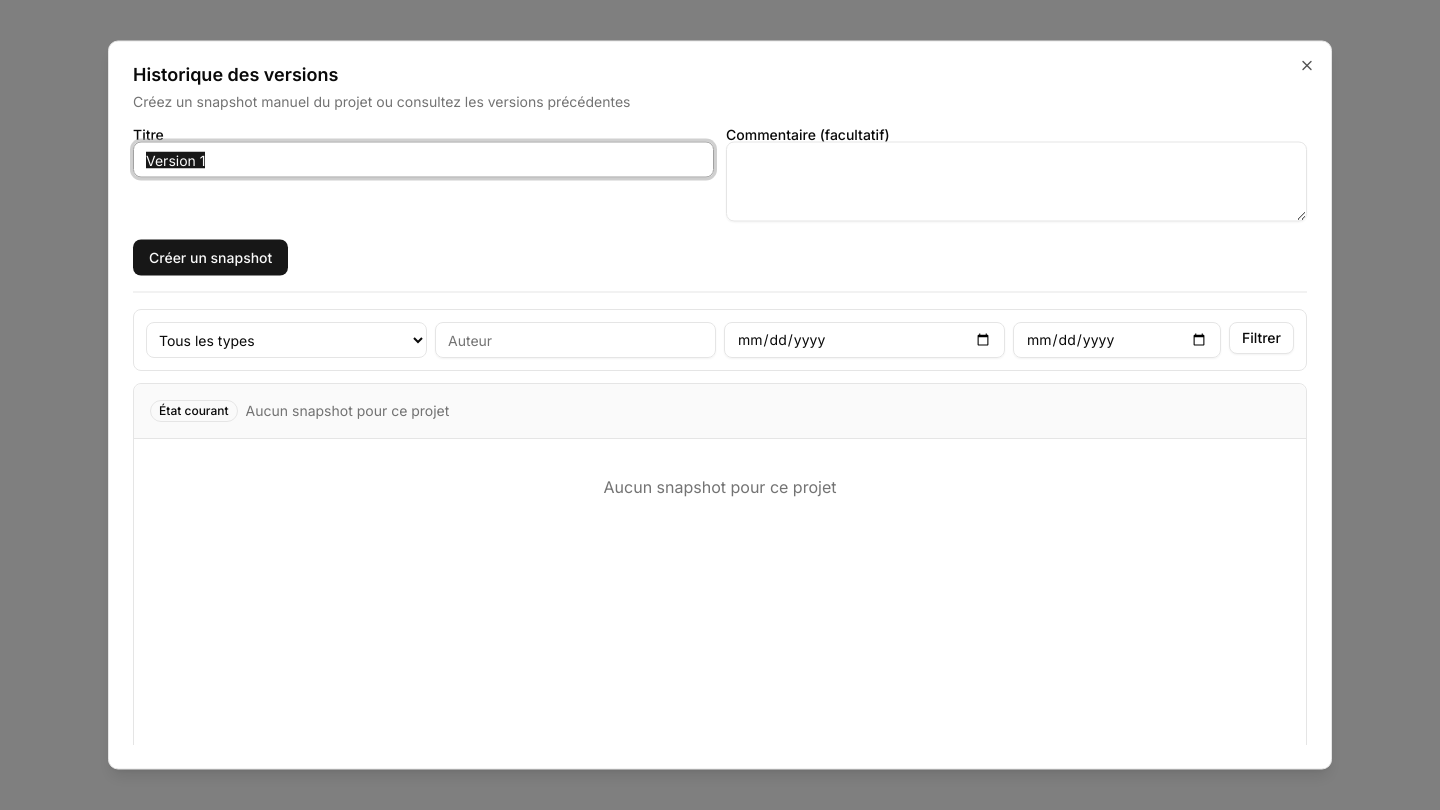
SnapshotHistoryDialog › creates a snapshot with the entered title and comment via the store
Replace the text in the field labelled "Titre" with "Ma version": (424, 160) [133,142,714,178]
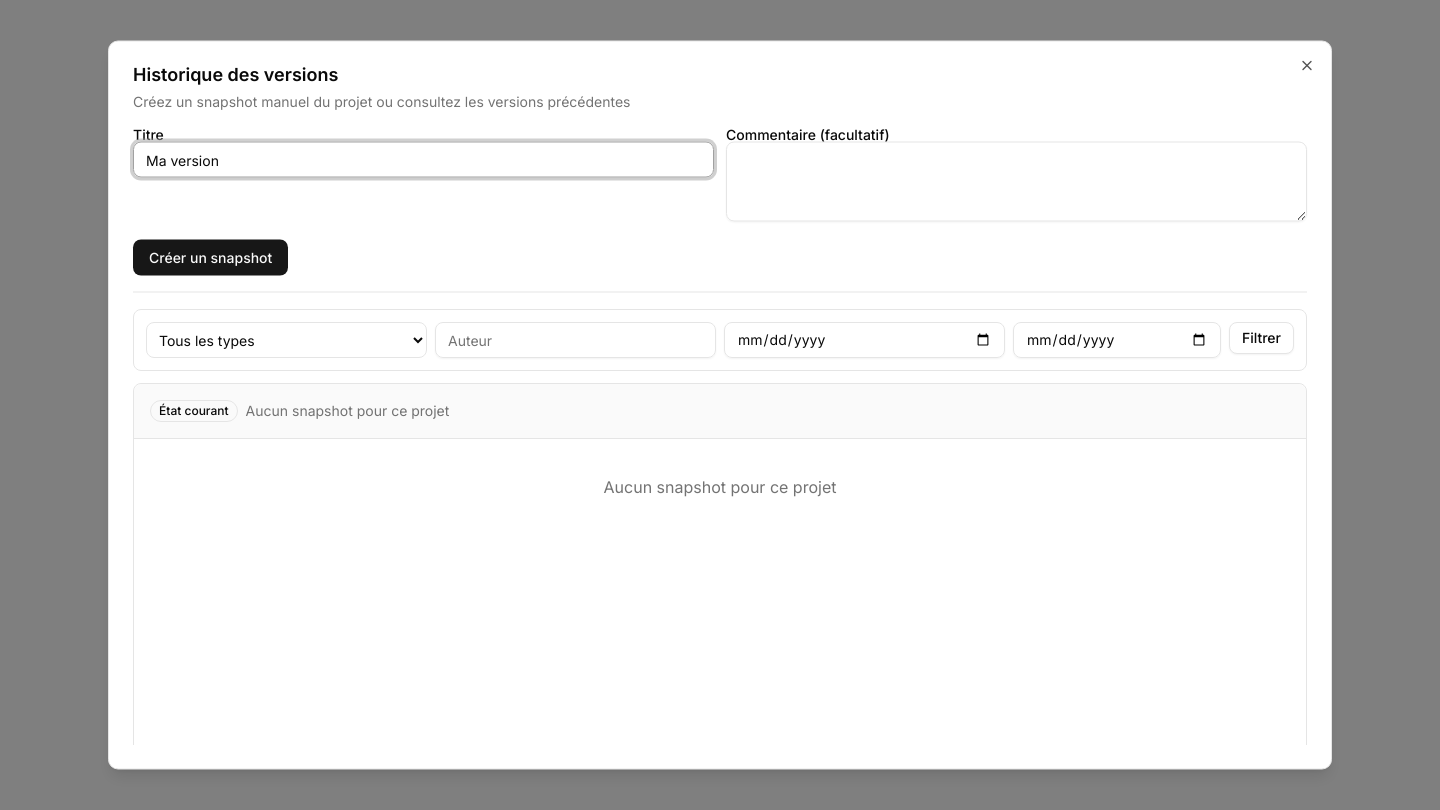
In the text box labelled "Commentaire (facultatif)": (1016, 182) [726,142,1307,222], type "Un jalon"
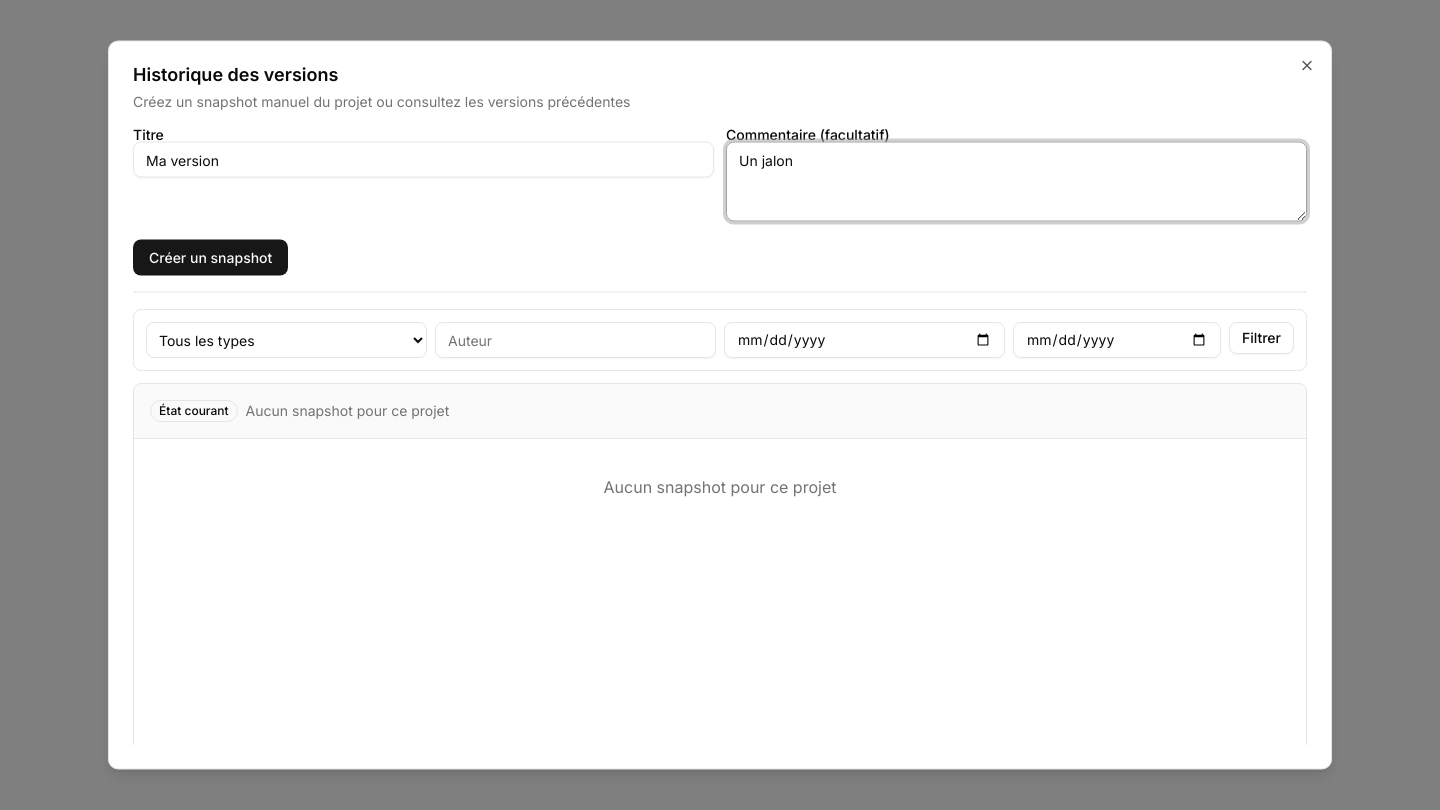
Click the button "Créer un snapshot": (211, 258) [133,240,288,276]
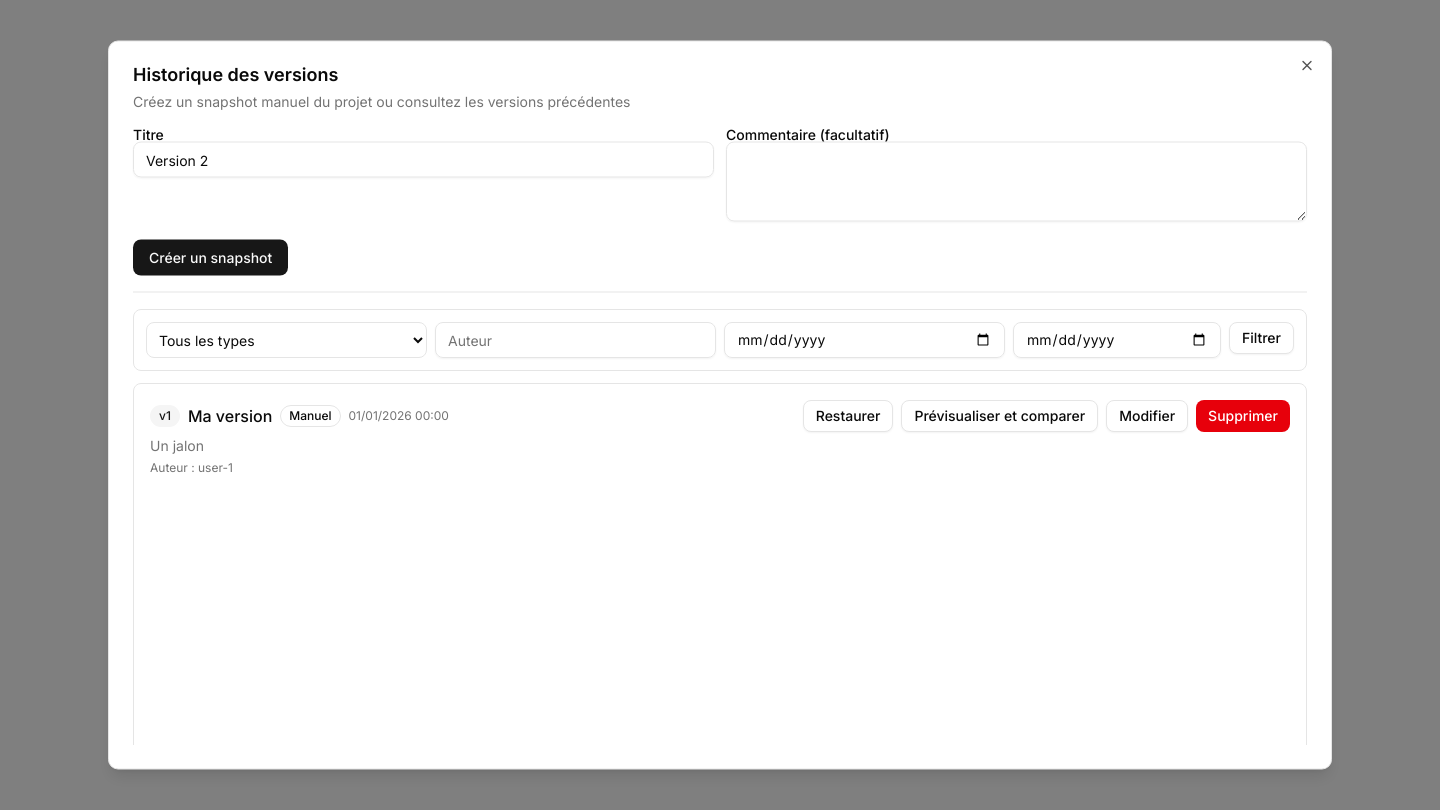
Check: the text "Ma version" is shown, box [188,404,272,428]
